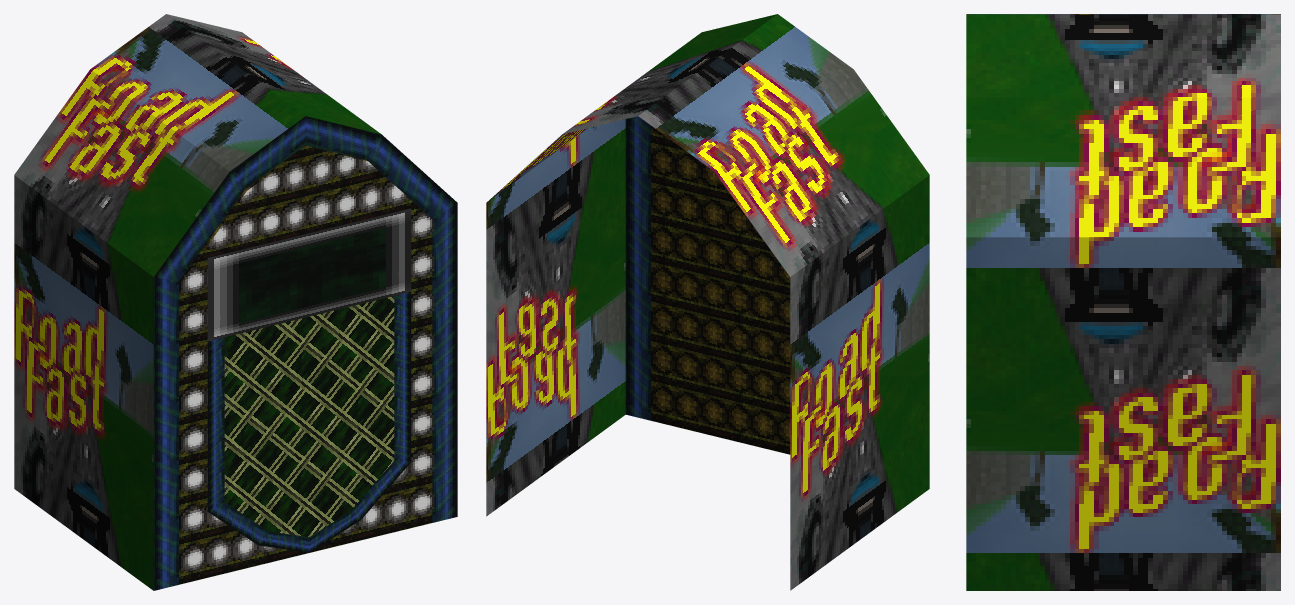
The model's file is jukebox.obj.
3 views of the same model, side by side, from view 1: azimuth 30°, elevation 25°; view 2: azimuth 150°, elevation 25°; view 3: azimuth 270°, elevation 25° (orthographic). The views are drawn at different scales.
Parts seen in each view (by area): view 1: jukebox; view 2: jukebox; view 3: jukebox.
Part boxes in pixels (left/top/right/bottom): jukebox: left=14, top=14, right=457, bottom=590; jukebox: left=486, top=14, right=929, bottom=590; jukebox: left=966, top=14, right=1280, bottom=590.
Bounding box in the file's own units: 0.9504 × 1.31 × 0.7757.
